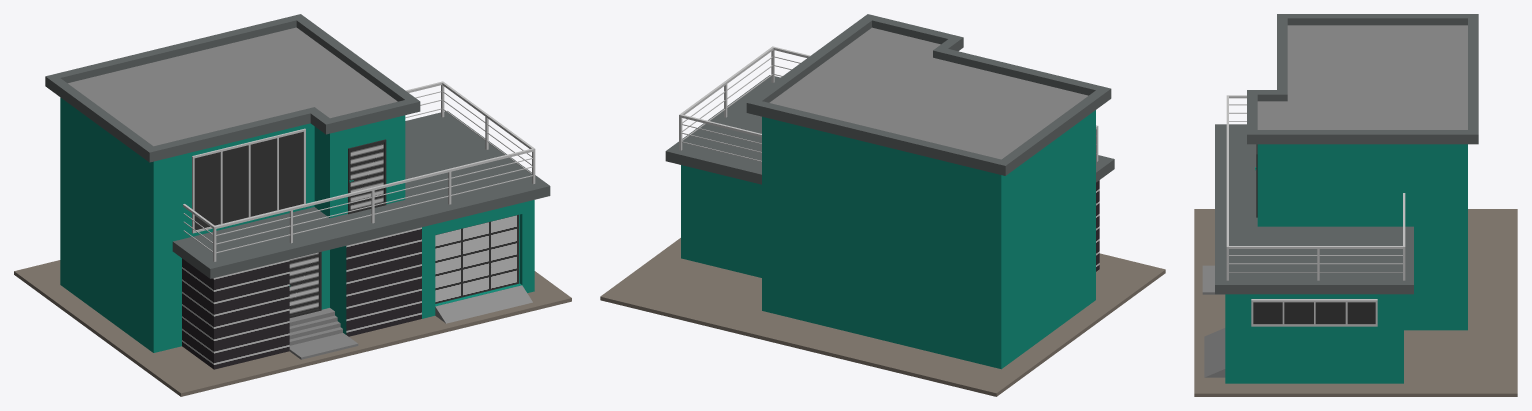
Rendered from building-house-02-color01.glb.
The picture shows the model from 3 angles, left to right: view 1: azimuth 30°, elevation 25°; view 2: azimuth 150°, elevation 25°; view 3: azimuth 270°, elevation 25°; orthographic projection. The views are drawn at different scales.
Parts seen in each view (by area): view 1: Building_House_02_color01; view 2: Building_House_02_color01; view 3: Building_House_02_color01.
Part boxes in pixels (<box>): Building_House_02_color01: <box>14,14,571,396</box>; Building_House_02_color01: <box>600,14,1165,396</box>; Building_House_02_color01: <box>1194,14,1517,396</box>.
Bounding box in the file's own units: 17.58 × 9.04 × 13.01.
1 material, 1 textured.
